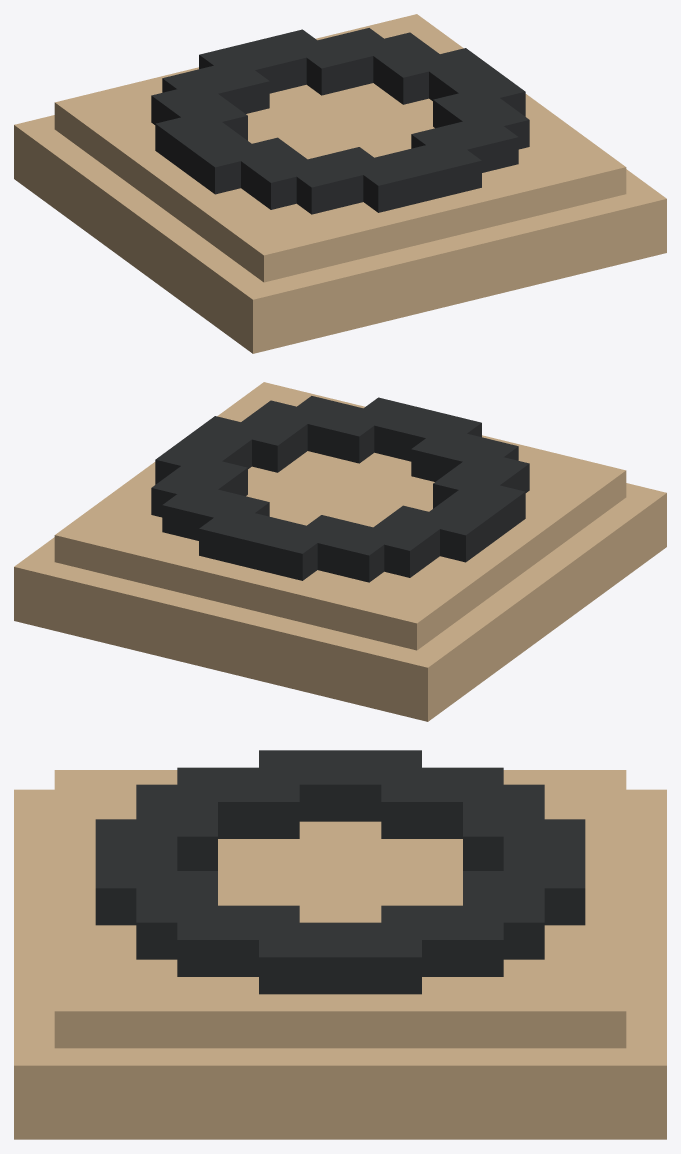
File: o-v2-tan-black.gltf
3 views of the same model, one above another, from view 1: azimuth 30°, elevation 25°; view 2: azimuth 150°, elevation 25°; view 3: azimuth 270°, elevation 25° (orthographic). The views are drawn at different scales.
Parts seen in each view (by area): view 1: Untitled; view 2: Untitled; view 3: Untitled.
Boxes of the visible parts, x1,y1,x2,y2 form: Untitled: (14,14,666,353); Untitled: (14,382,666,721); Untitled: (14,750,666,1139).
Size of the model in its own units: 1.6 by 0.4 by 1.6.
Materials: 1 (1 with a texture image).
